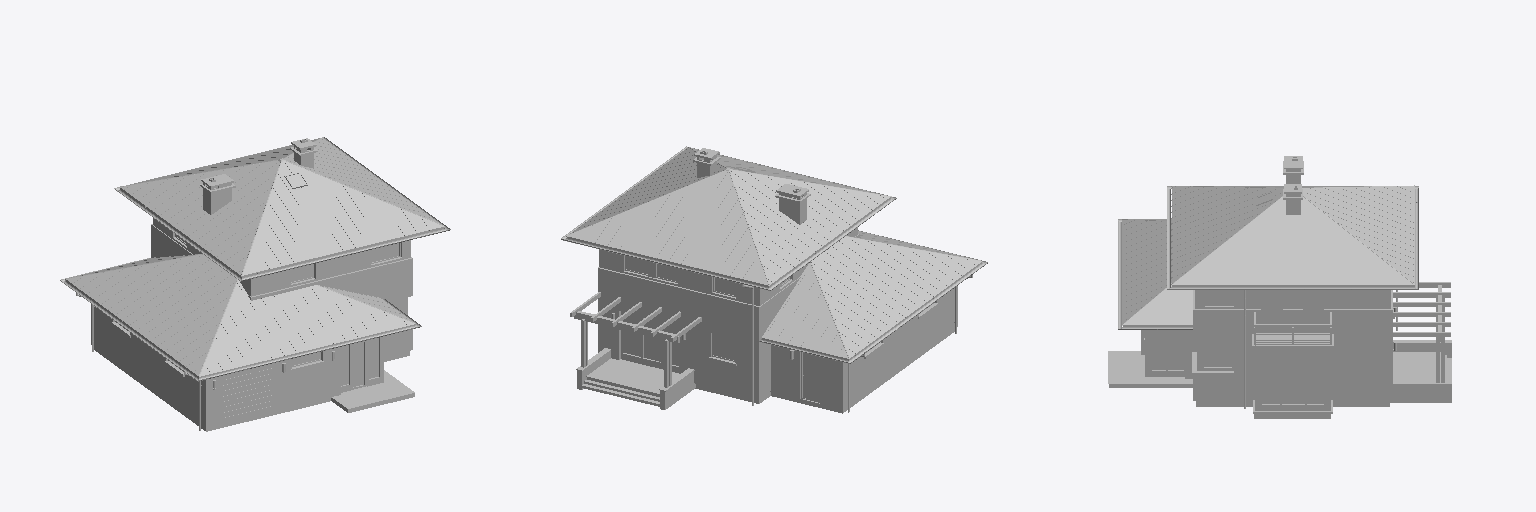
The model's file is house.obj.
3 renders of one model, left to right at view 1: azimuth 30°, elevation 25°; view 2: azimuth 150°, elevation 25°; view 3: azimuth 270°, elevation 25°, orthographic.
Parts seen in each view (by area): view 1: windows; view 2: windows; view 3: windows.
Boxes of the visible parts, x1,y1,x2,y2 form: windows: [60, 137, 450, 431]; windows: [561, 146, 987, 413]; windows: [1108, 156, 1451, 418].
Bounding box in the file's own units: 13.64 × 9 × 14.54.